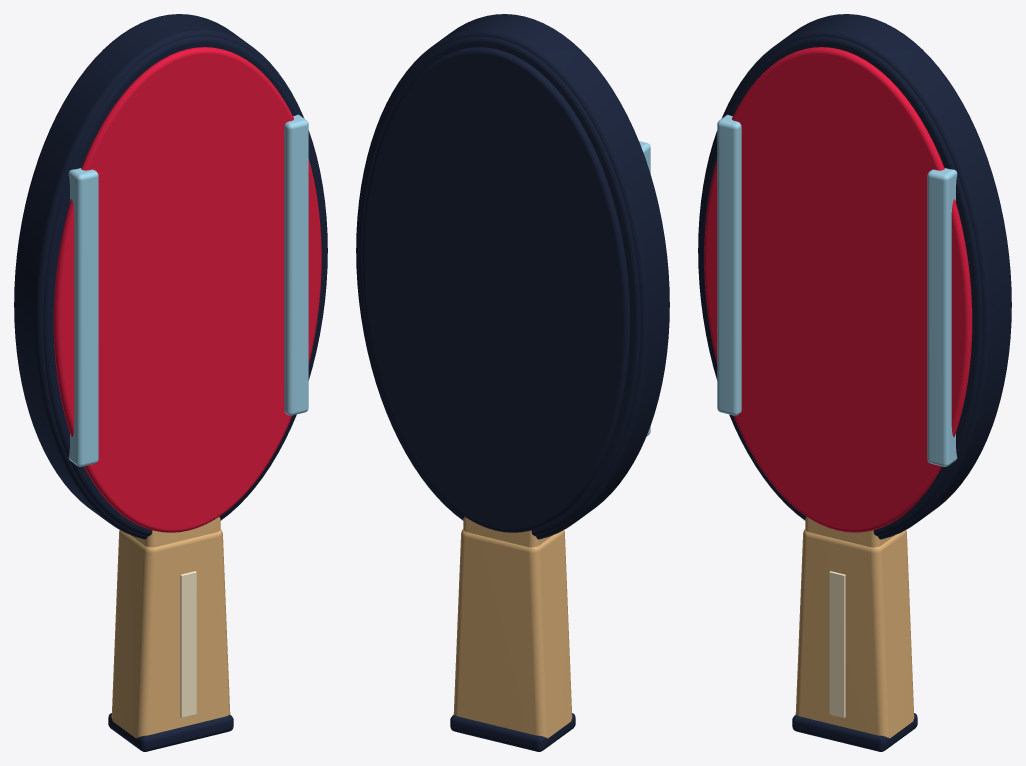
File: LongSmash.glb
3 renders of one model, left to right at view 1: azimuth 30°, elevation 25°; view 2: azimuth 150°, elevation 25°; view 3: azimuth 330°, elevation 25°, orthographic.
Visible parts, largest first — view 1: FrontRubber, OuterRim, WoodHandle, RimLip, PrecisionRail-1, PrecisionRail1, HandleInlay, HandleButt, Neck; view 2: BackRubber, WoodHandle, OuterRim, RimLip, HandleButt, Neck; view 3: FrontRubber, OuterRim, WoodHandle, RimLip, PrecisionRail1, PrecisionRail-1, HandleInlay, HandleButt, Neck.
Part boxes in pixels (x1=…): FrontRubber: x1=53, y1=47, x2=321, y2=532; OuterRim: x1=14, y1=14, x2=327, y2=539; WoodHandle: x1=111, y1=529, x2=230, y2=738; RimLip: x1=43, y1=36, x2=325, y2=536; PrecisionRail-1: x1=68, y1=168, x2=98, y2=466; PrecisionRail1: x1=284, y1=114, x2=308, y2=415; HandleInlay: x1=180, y1=571, x2=196, y2=717; HandleButt: x1=108, y1=713, x2=233, y2=751; Neck: x1=130, y1=516, x2=220, y2=547; BackRubber: x1=362, y1=47, x2=630, y2=532; WoodHandle: x1=453, y1=529, x2=572, y2=738; OuterRim: x1=356, y1=14, x2=669, y2=539; RimLip: x1=358, y1=36, x2=640, y2=536; HandleButt: x1=450, y1=713, x2=575, y2=751; Neck: x1=463, y1=516, x2=553, y2=547; FrontRubber: x1=704, y1=47, x2=972, y2=532; OuterRim: x1=698, y1=14, x2=1011, y2=539; WoodHandle: x1=795, y1=529, x2=914, y2=738; RimLip: x1=700, y1=36, x2=982, y2=536; PrecisionRail1: x1=927, y1=168, x2=957, y2=466; PrecisionRail-1: x1=717, y1=114, x2=741, y2=415; HandleInlay: x1=829, y1=571, x2=845, y2=717; HandleButt: x1=792, y1=713, x2=917, y2=751; Neck: x1=805, y1=516, x2=895, y2=547.
Size of the model in its own units: 0.47 by 1.09 by 0.1197.
